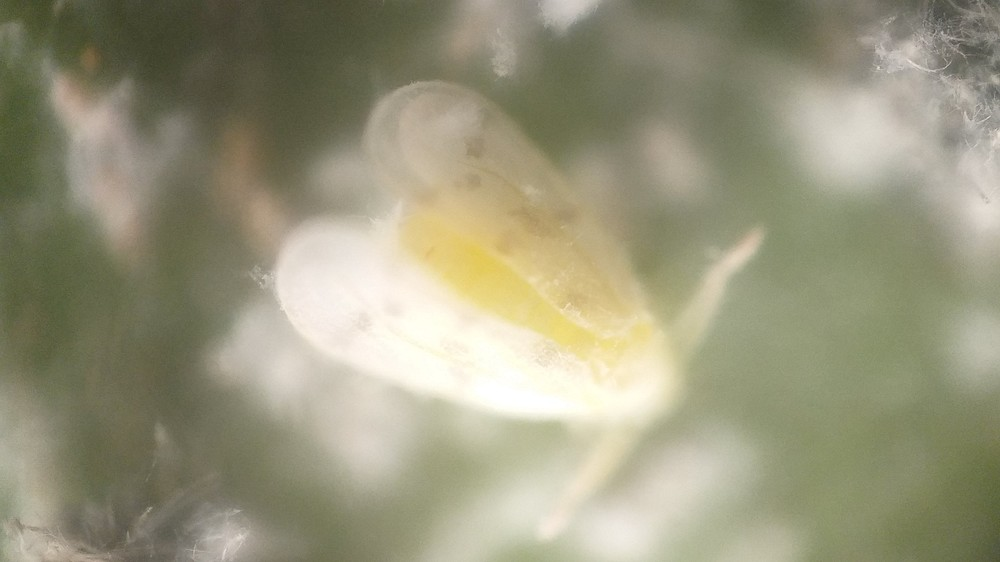Mosca Blanca: (257, 63, 779, 548)
